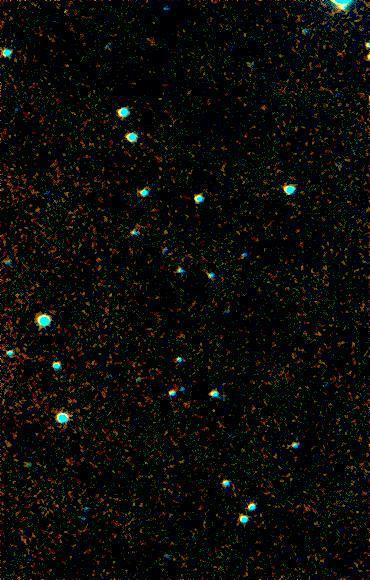star: (325, 0, 355, 20)
